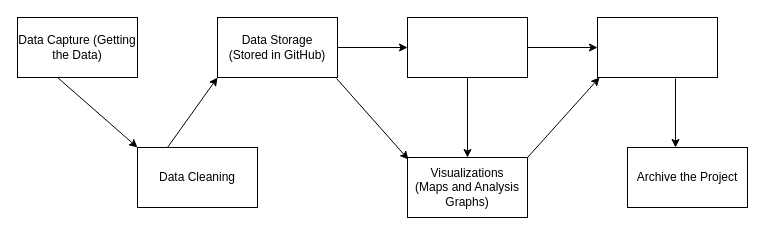
This 765x235 diagram has some shape labels left out. The box of each missing label's shape, as (x1, y1, x2, y2) in pixels:
Data Analysis (Creating and Testing Models): (406, 16, 528, 78)
Project Report: (596, 16, 718, 78)
